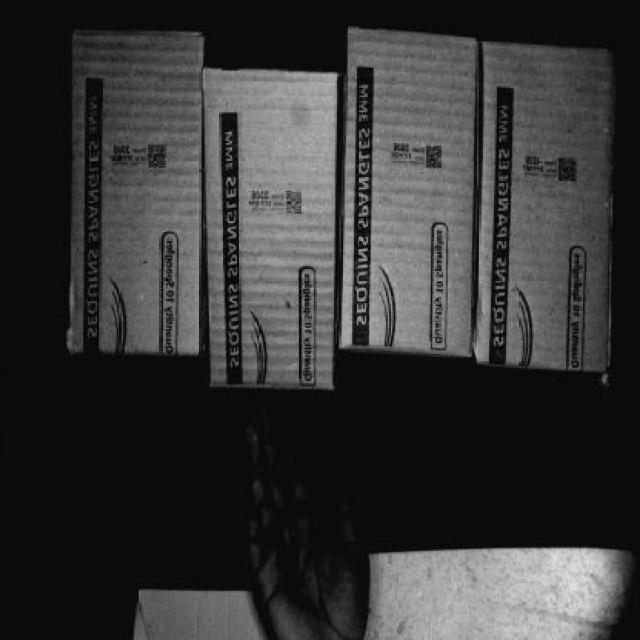cardboxes: (64, 25, 202, 352), (475, 41, 613, 368), (339, 42, 476, 344), (205, 74, 332, 392)
